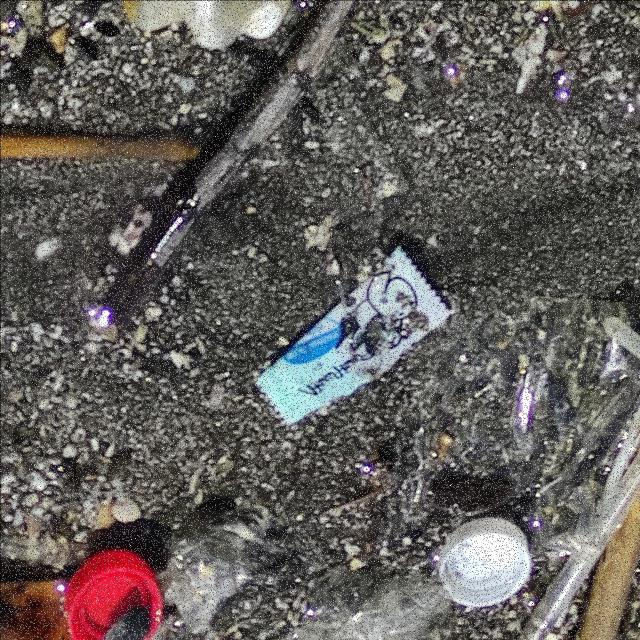plastic_waste: (253, 242, 453, 428), (63, 548, 165, 640), (438, 517, 534, 608)
